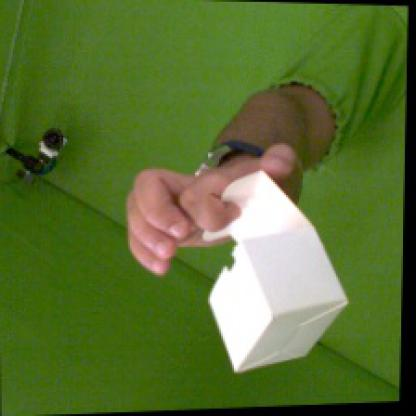Hand: (126, 144, 304, 278)
